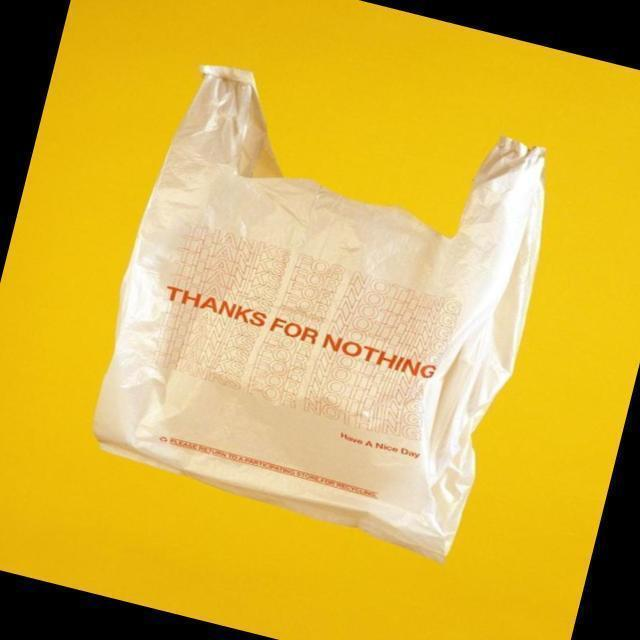Plastic_Bag: (75, 42, 570, 570)
